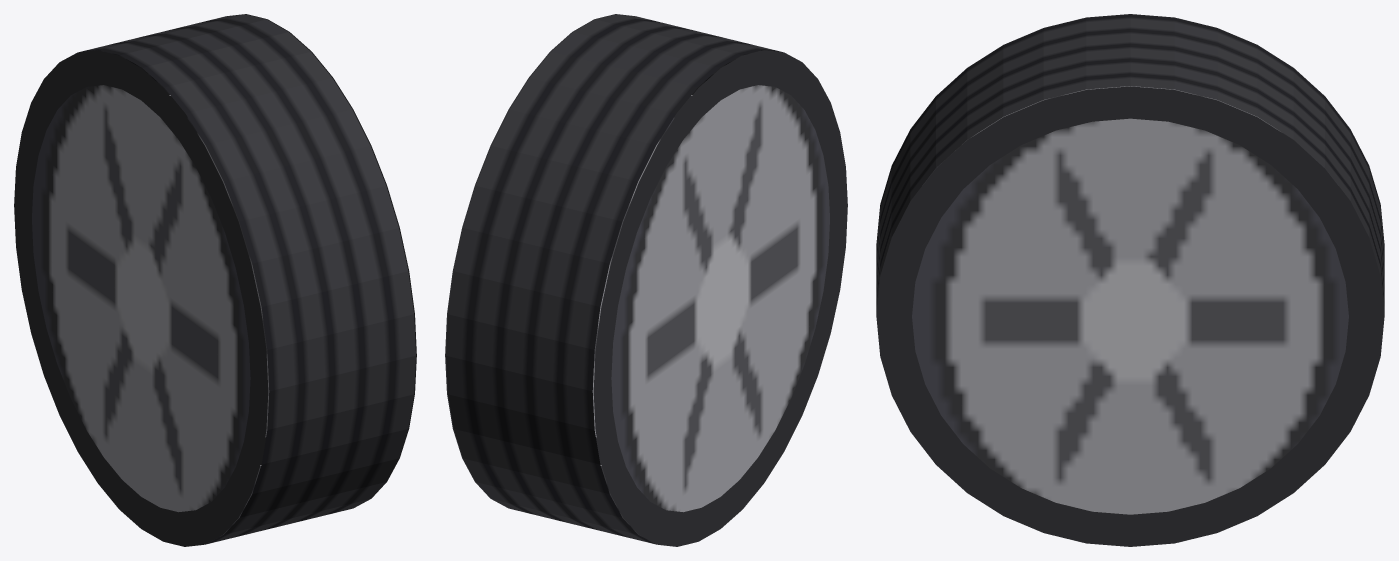
Rendered from wheel_rear.obj.
3 renders of one model, left to right at view 1: azimuth 30°, elevation 25°; view 2: azimuth 150°, elevation 25°; view 3: azimuth 270°, elevation 25°, orthographic.
Parts seen in each view (by area): view 1: wheel_rear; view 2: wheel_rear; view 3: wheel_rear.
Part boxes in pixels (x1,y1,x2,y2): wheel_rear: (14, 14, 416, 546); wheel_rear: (445, 14, 847, 546); wheel_rear: (876, 14, 1384, 546).
Bounding box in the file's own units: 3.44 × 10.2 × 10.2.
1 material, 1 textured.
